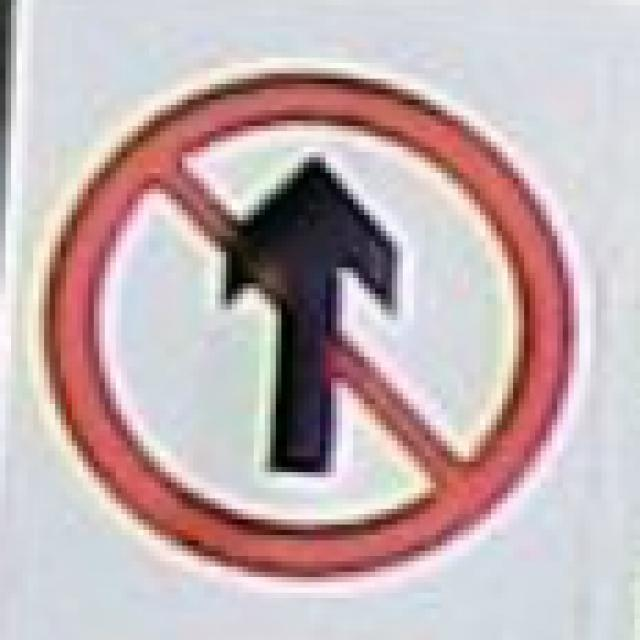Not that Direction: (39, 59, 597, 590)
